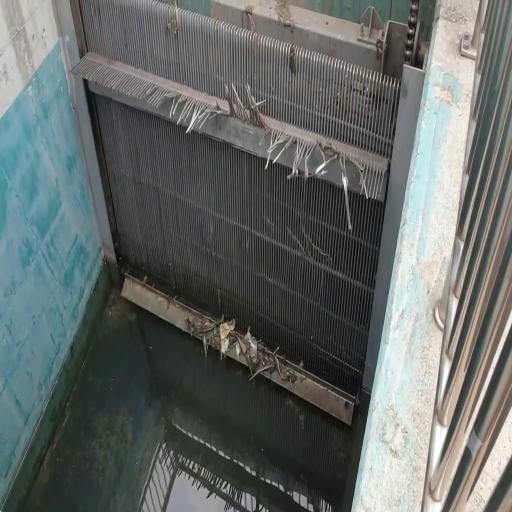rake_broken: (312, 134, 374, 236), (189, 79, 275, 137), (138, 75, 206, 137), (255, 123, 319, 187)
